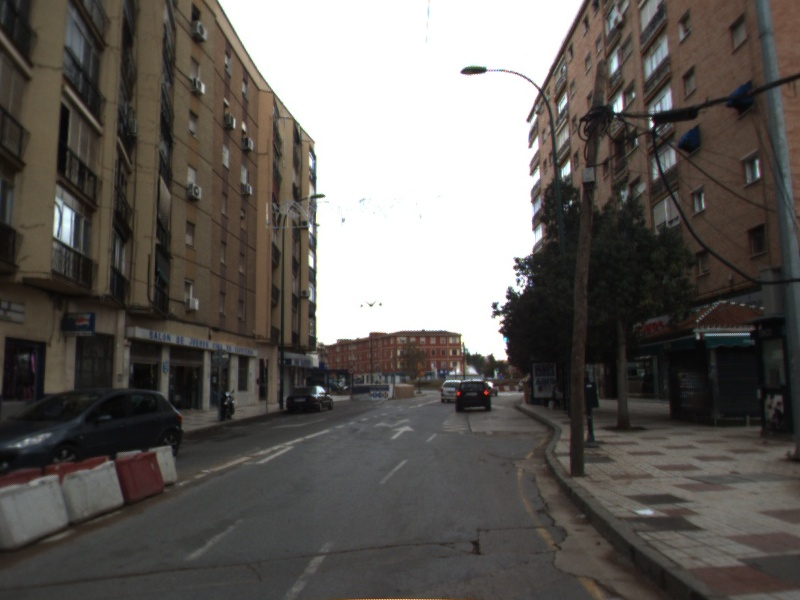STRAIGHT: (387, 424, 416, 442)
STRAIGHT_LEFT: (371, 416, 413, 430)
